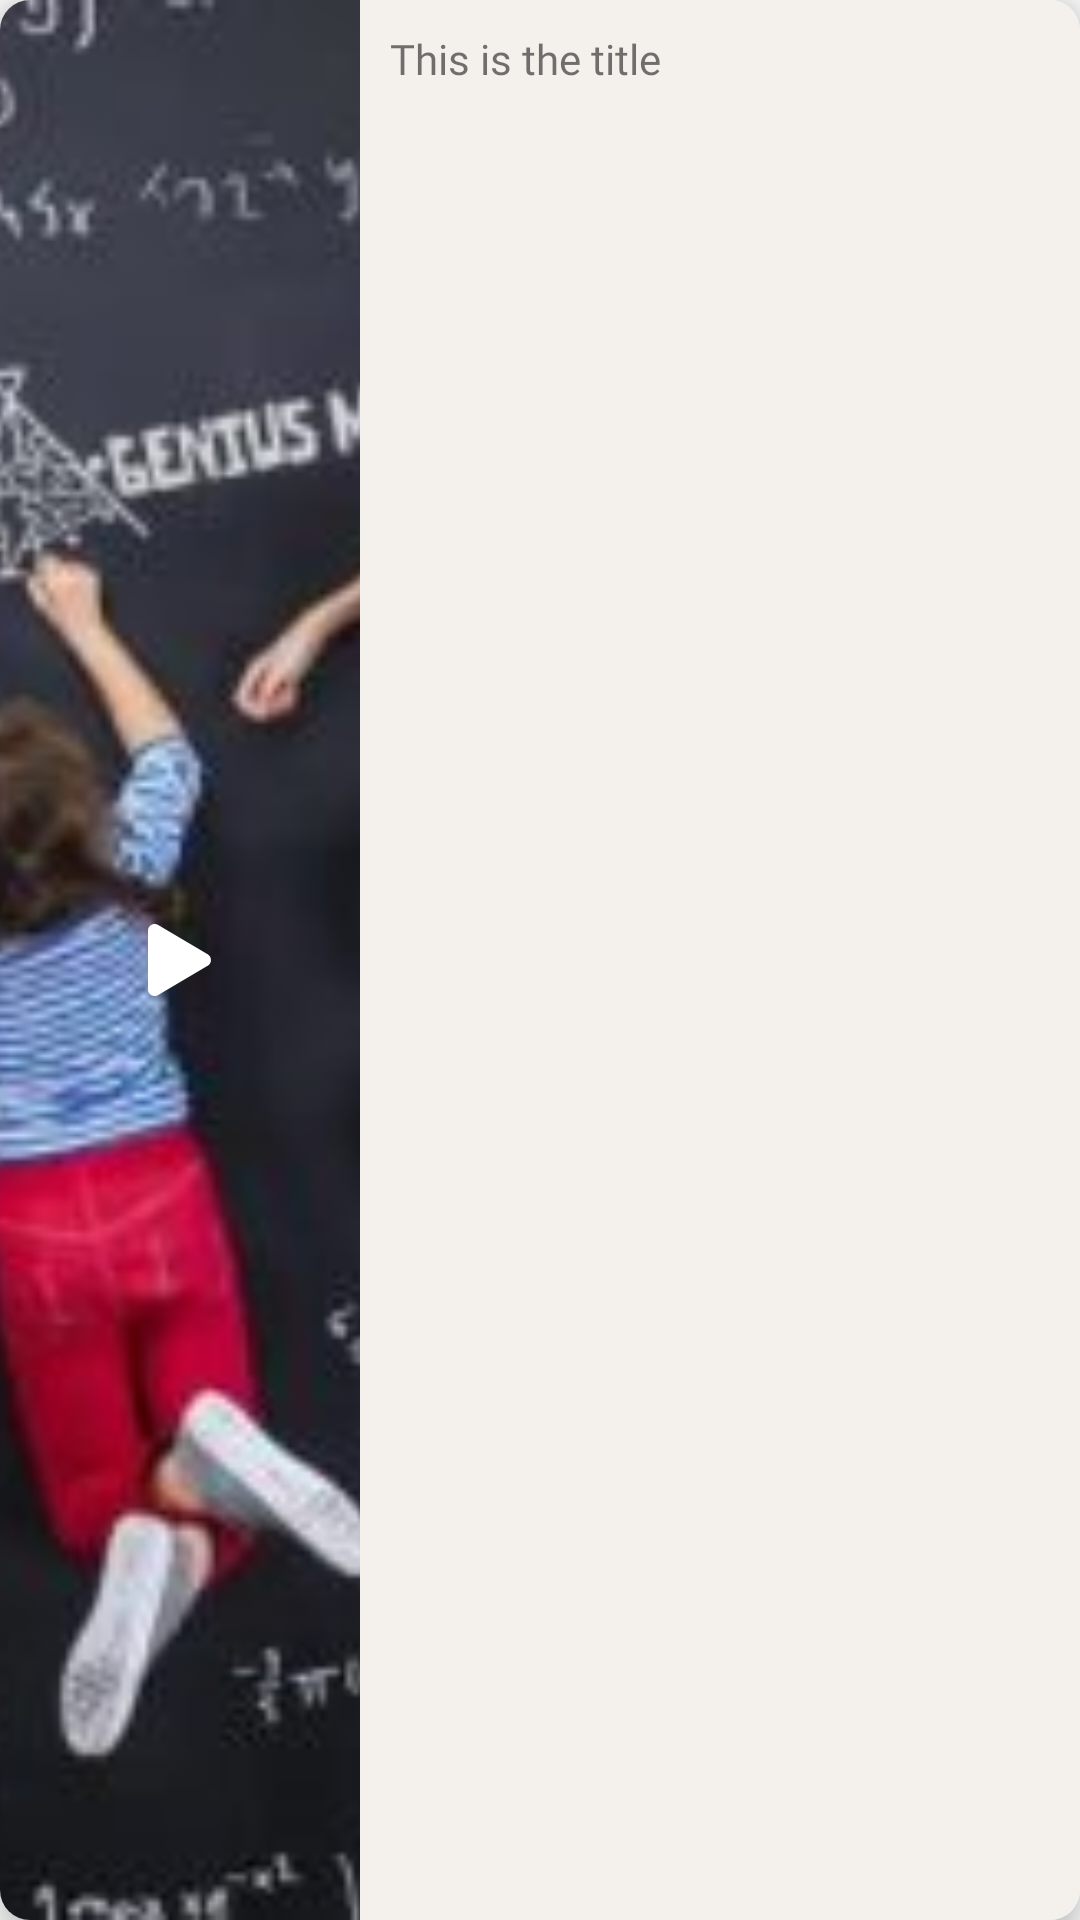

Where to tap for icons on this 1080px x 1920px app screen, as (x,y):
fas play: (179,960)
